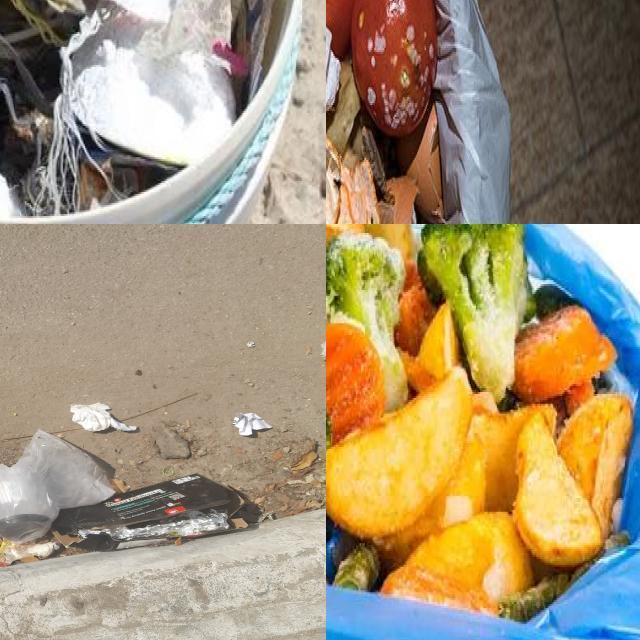Background: (0, 224, 326, 640)
Garbage: (326, 224, 632, 614), (326, 0, 450, 224)
Metal: (77, 509, 228, 539)
Plastic_Bag: (163, 0, 277, 113), (0, 430, 114, 543), (0, 35, 59, 186)
Plastic_wraper: (0, 541, 30, 567)
